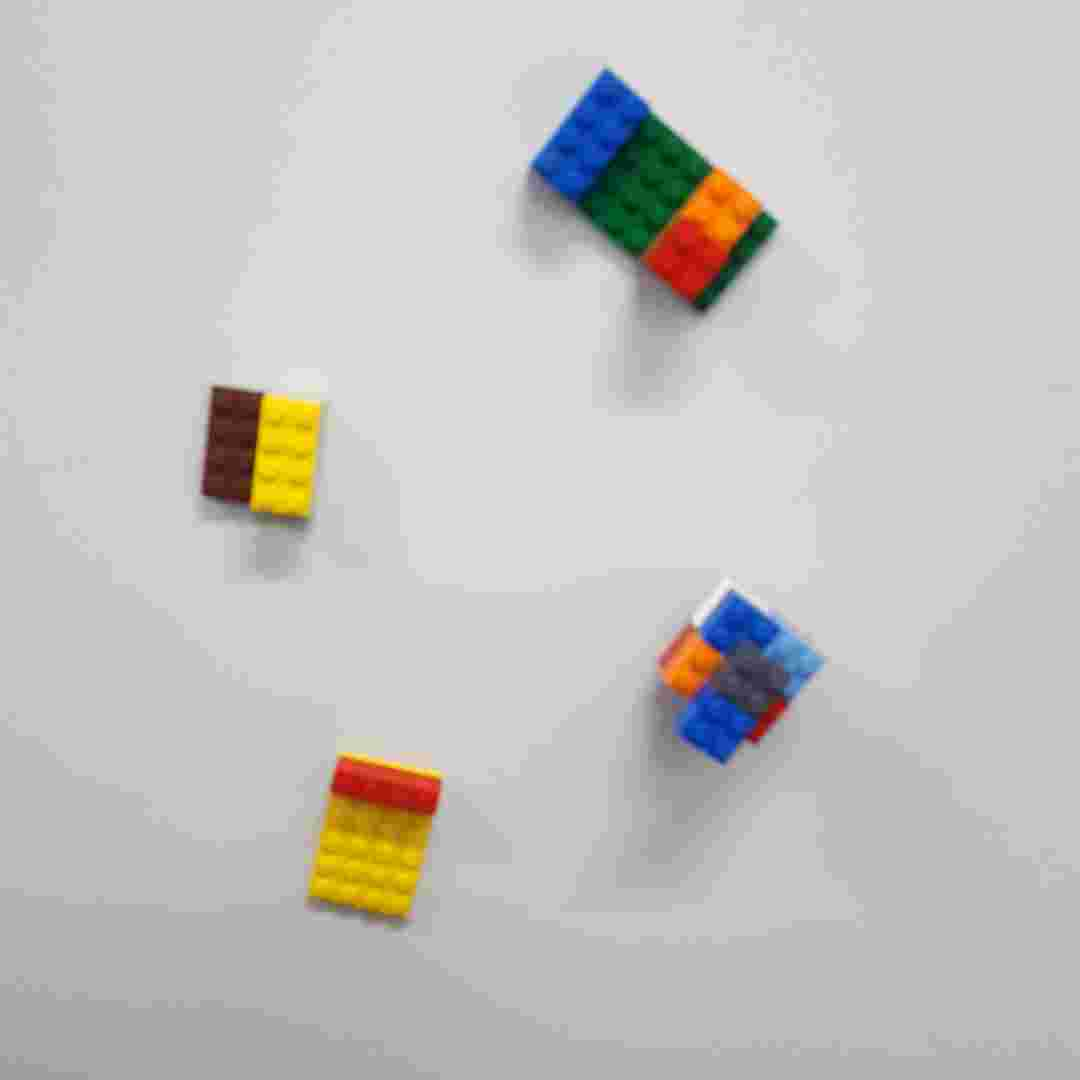LEGO: (525, 67, 784, 316), (652, 575, 828, 763), (305, 750, 446, 928), (198, 387, 323, 521)
